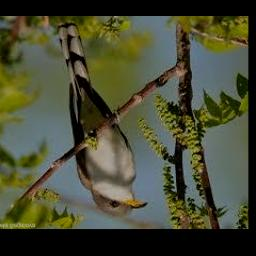Cuckoo: (55, 22, 148, 214)
